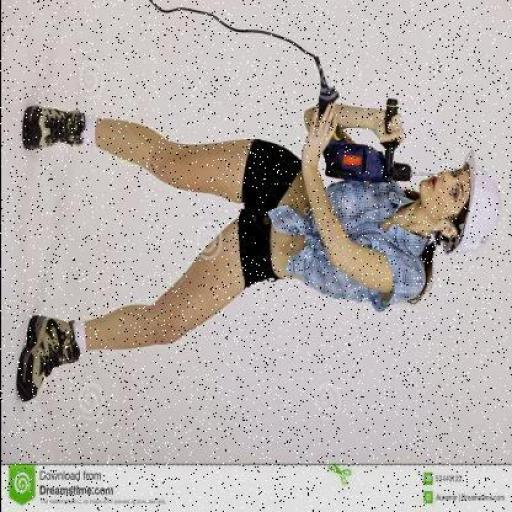person: (11, 79, 501, 402)
safety_shoe: (10, 309, 76, 404), (20, 104, 88, 159)
